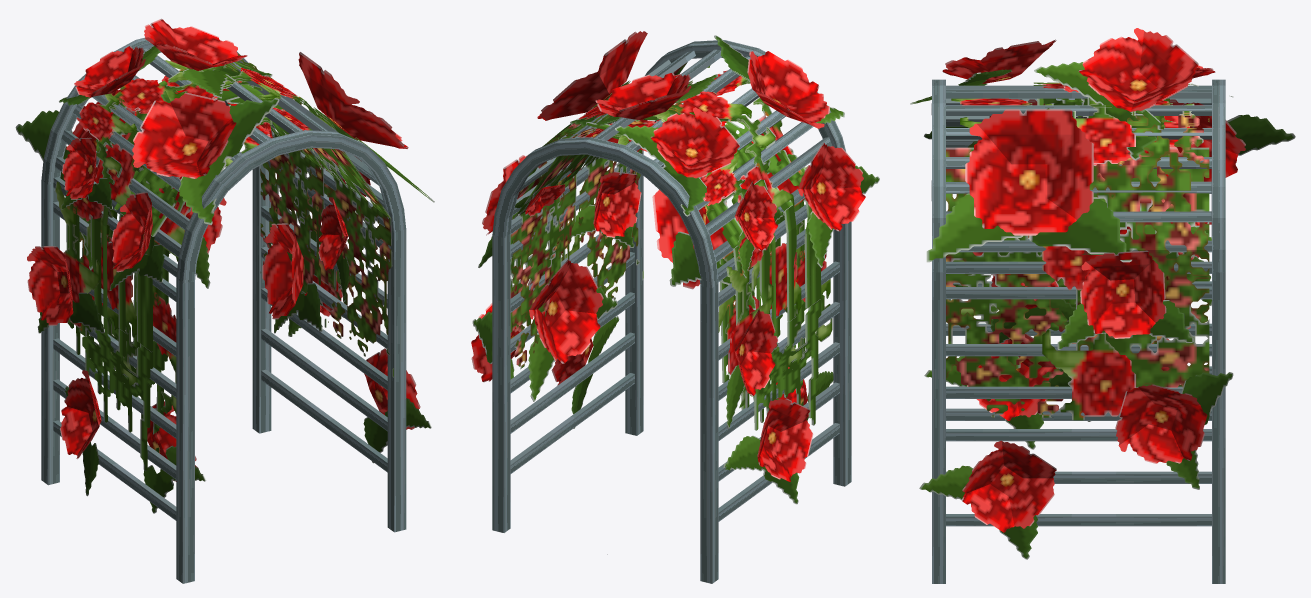
The model's file is garden path.fbx.
3 views of the same model, side by side, from view 1: azimuth 30°, elevation 25°; view 2: azimuth 150°, elevation 25°; view 3: azimuth 270°, elevation 25° (orthographic). The views are drawn at different scales.
Visible parts, largest first — view 1: 가시 꽃.004, Path Arc, Path Arc Line; view 2: 가시 꽃.004, Path Arc, Path Arc Line; view 3: 가시 꽃.004, Path Arc Line, Path Arc.
Boxes of the visible parts, <box> form: 가시 꽃.004: <box>15,18,434,513</box>; Path Arc: <box>41,37,406,583</box>; Path Arc Line: <box>53,48,387,520</box>; 가시 꽃.004: <box>471,31,879,504</box>; Path Arc: <box>492,40,851,583</box>; Path Arc Line: <box>510,49,839,521</box>; 가시 꽃.004: <box>910,28,1295,559</box>; Path Arc Line: <box>946,85,1211,526</box>; Path Arc: <box>931,79,1225,583</box>.
Size of the model in its own units: 270 by 394 by 285.
